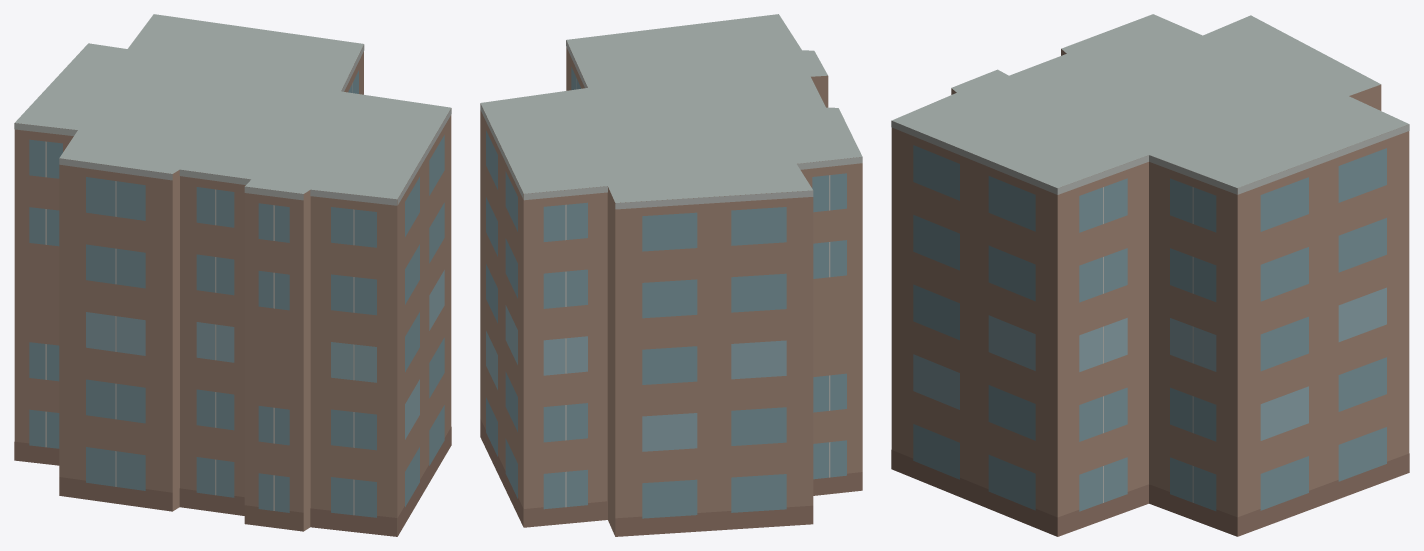
File: survey-upis-32732749.glb
3 renders of one model, left to right at view 1: azimuth 30°, elevation 25°; view 2: azimuth 150°, elevation 25°; view 3: azimuth 270°, elevation 25°, orthographic. The views are drawn at different scales.
Visible parts, largest first — view 1: survey-upis-32732749.tmp; view 2: survey-upis-32732749.tmp; view 3: survey-upis-32732749.tmp.
Boxes of the visible parts, x1=… form: survey-upis-32732749.tmp: x1=14, y1=14, x2=451, y2=536; survey-upis-32732749.tmp: x1=480, y1=14, x2=862, y2=536; survey-upis-32732749.tmp: x1=891, y1=14, x2=1409, y2=536.
Size of the model in its own units: 13.63 by 12.7 by 17.11.
